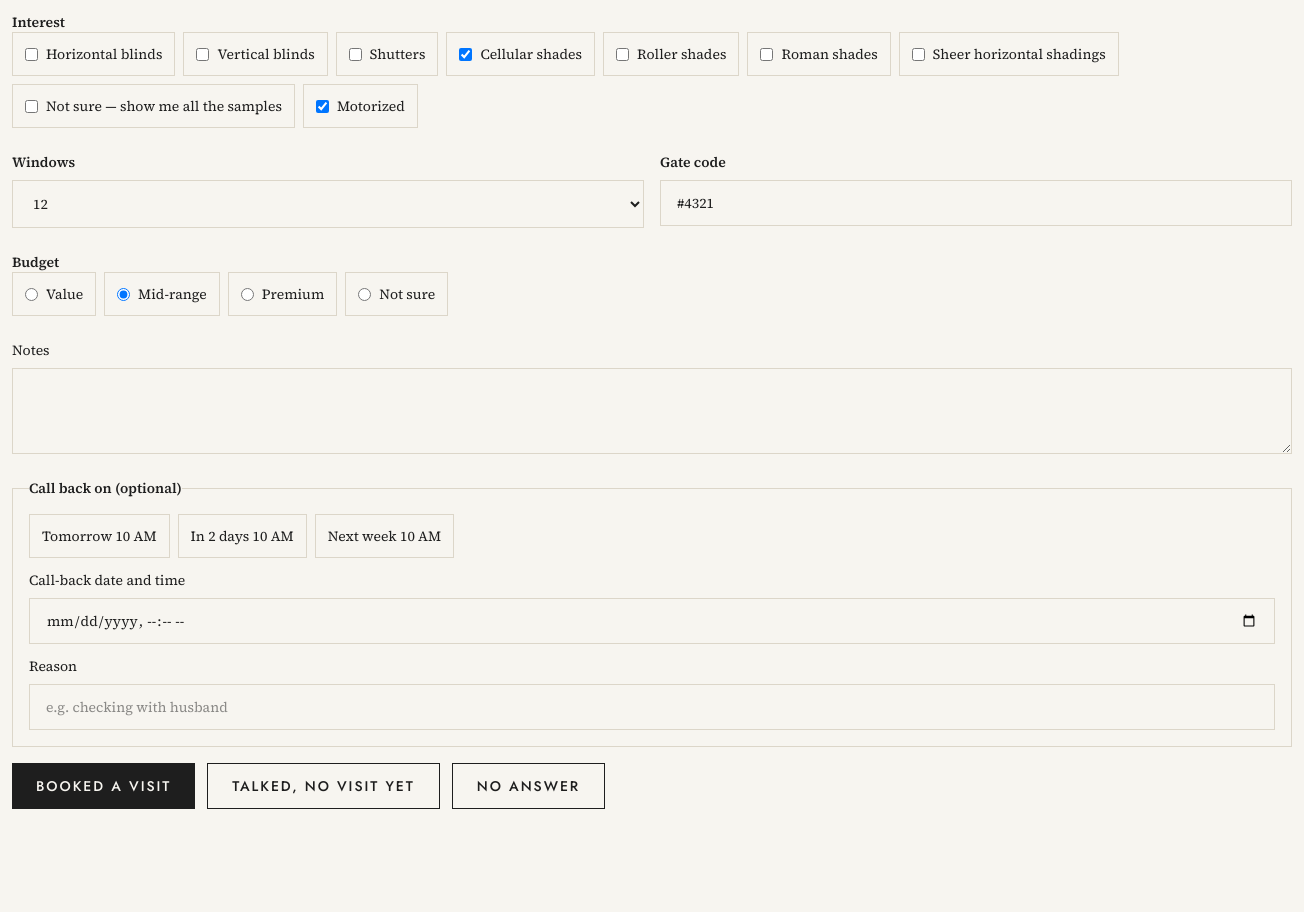
Test: CallForm › does not refetch when only the time changes, but updates the clash highlight
Click the button "Booked a visit": (104, 786) x1=12 y1=763 x2=195 y2=809
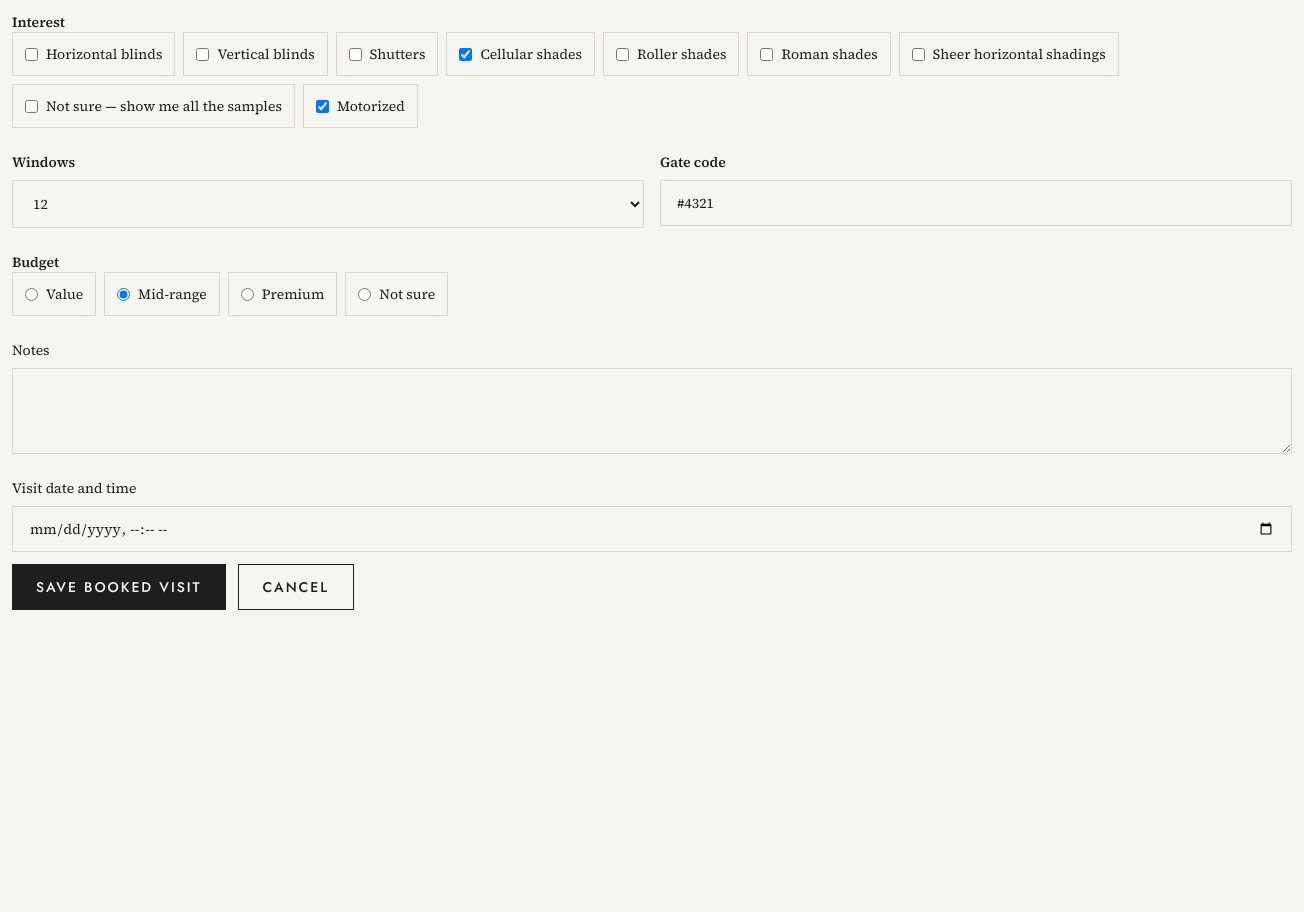
In the field labelled "Visit date and time": (652, 529) x1=12 y1=506 x2=1292 y2=552, type "2026-09-20T09:00"
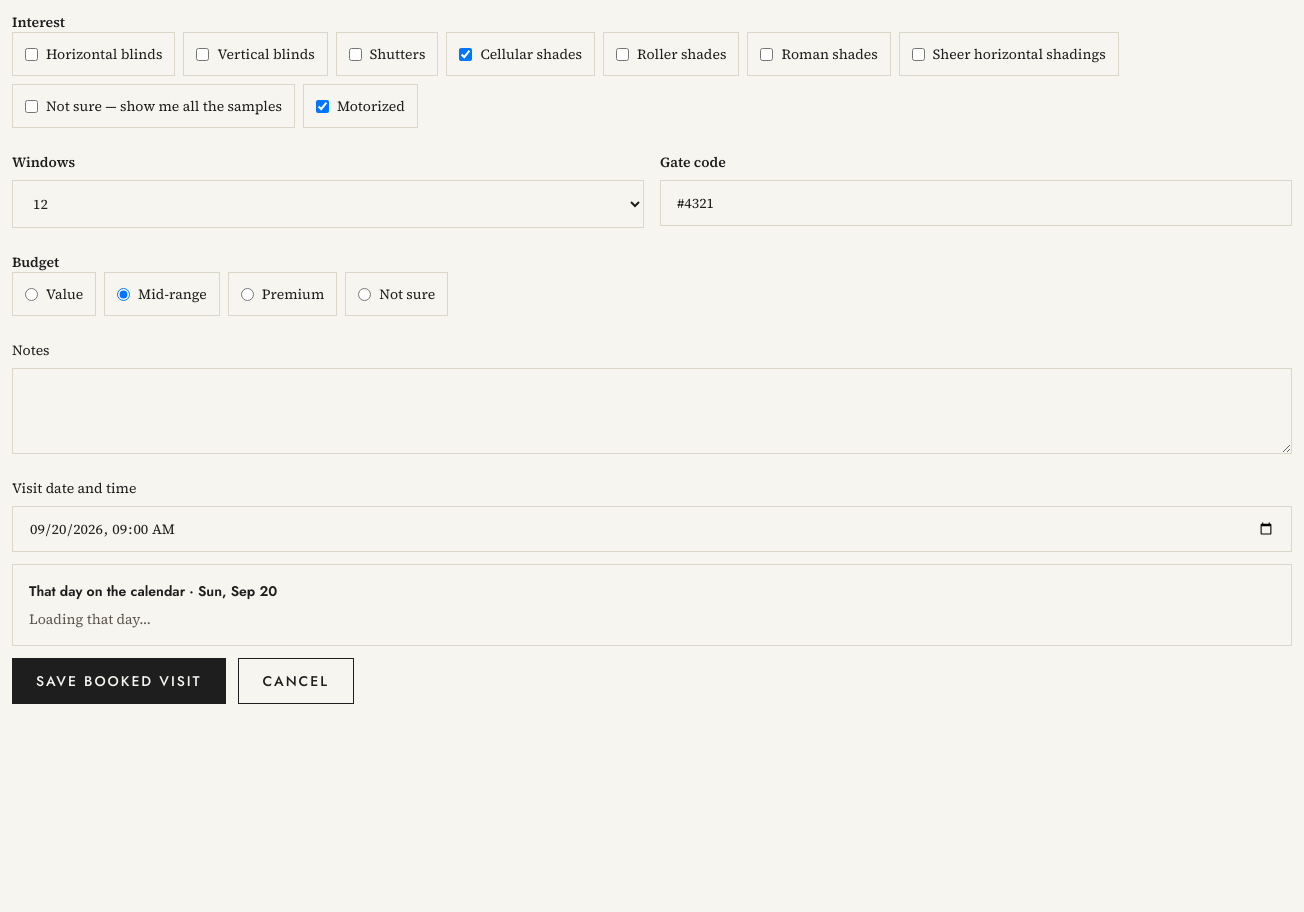
Expected: the text "clashes with this time" is not shown
Replace the text in the field labelled "Visit date and time" with "2026-09-20T10:30": (652, 529) x1=12 y1=506 x2=1292 y2=552
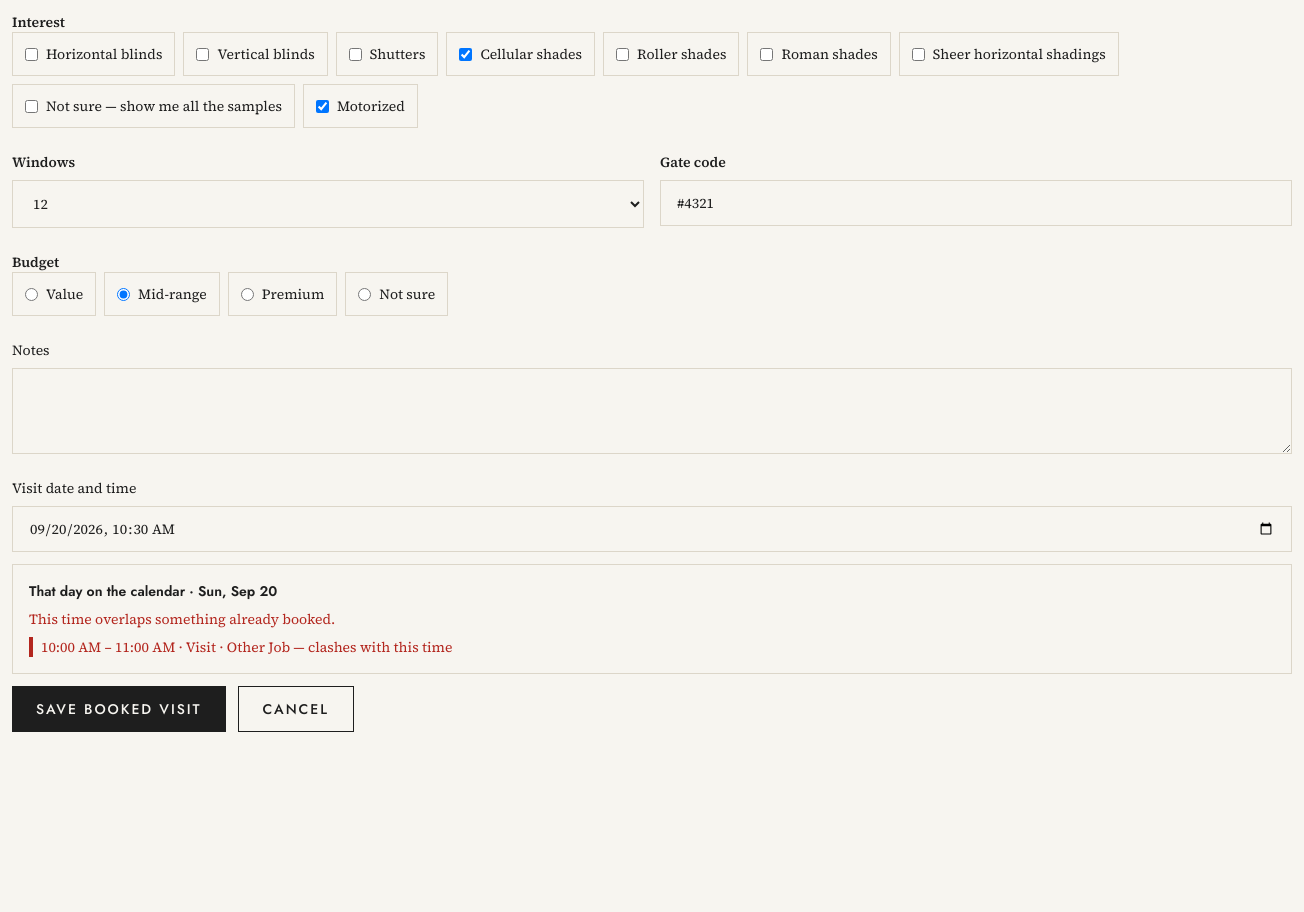
Expected: the list item "clashes with this time" is shown, x1=290 y1=637 x2=452 y2=657
